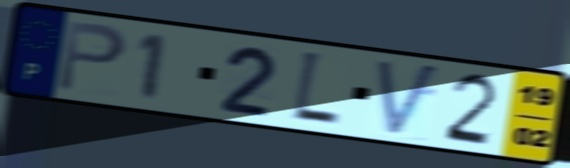1: (133, 32, 168, 102)
2: (213, 41, 285, 120), (443, 72, 502, 148)
L: (289, 47, 344, 130)
P: (54, 17, 131, 95)
V: (373, 57, 444, 141)
